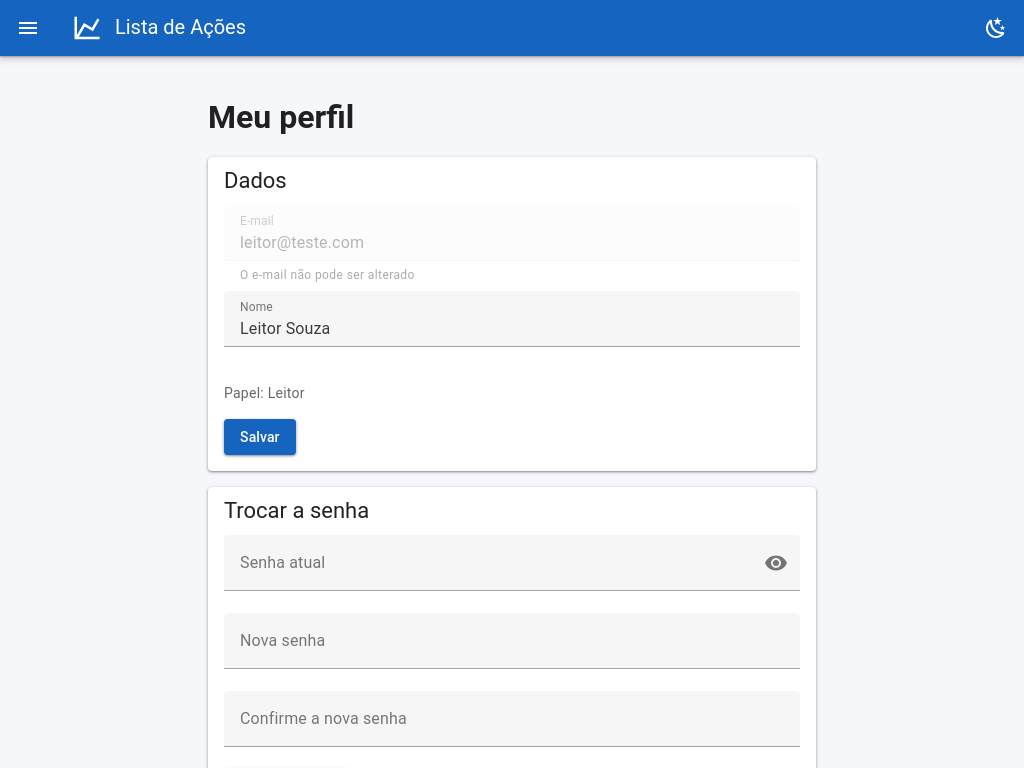
Scenario: perfil (/perfil) › dados › salvar o nome manda PATCH { nome } e atualiza o menu
Replace the text in the field labelled "Nome" with "  Leitor Novo " at (512, 319), box [224,291,800,347]
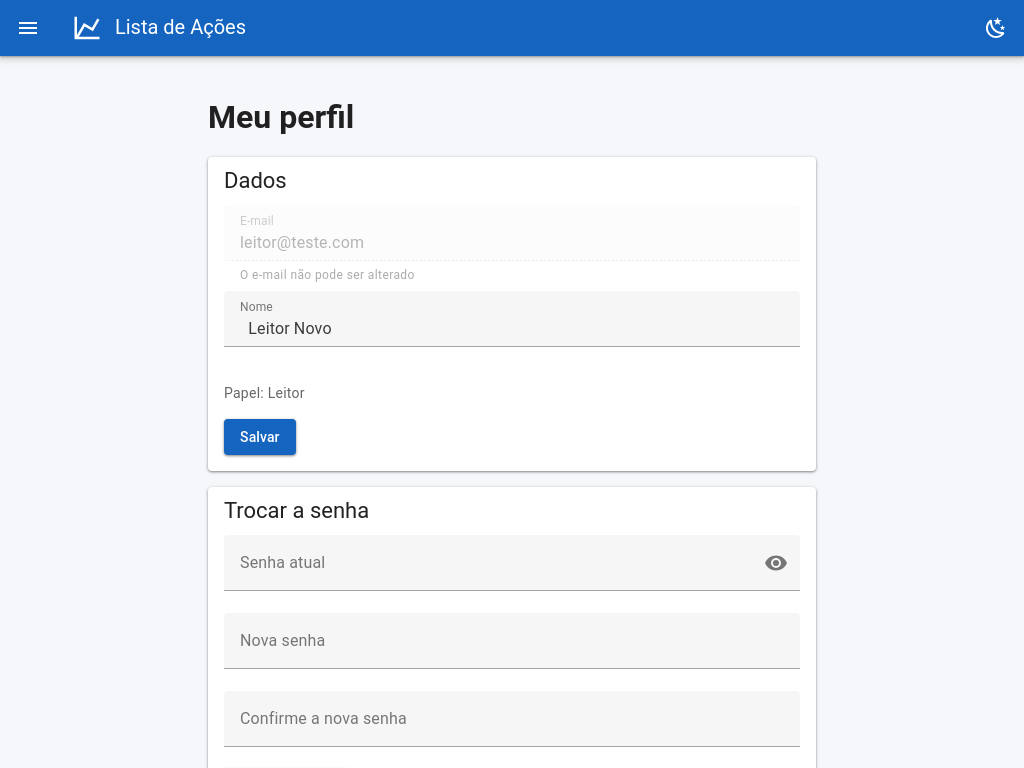
Submit the form that starts with "E-mail", box [224,205,800,455]
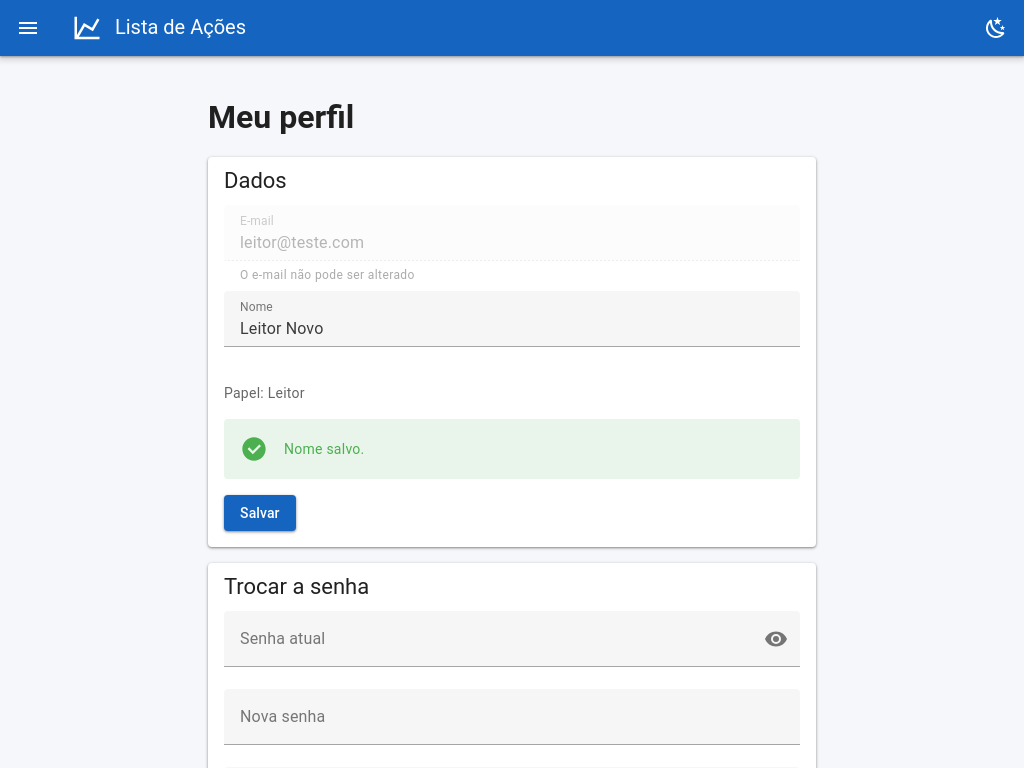
Expected: the element with test id "aviso-dados" shows "salvo", [284,441,364,457]
